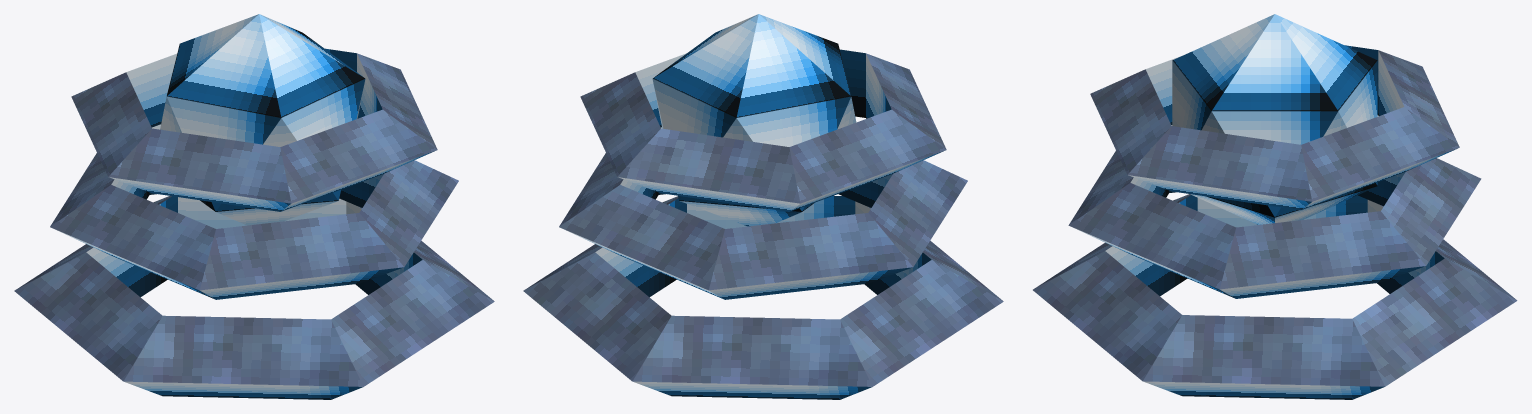
The model's file is charger_upgrade.gltf.
The picture shows the model from 3 angles, left to right: view 1: azimuth 30°, elevation 25°; view 2: azimuth 150°, elevation 25°; view 3: azimuth 270°, elevation 25°; orthographic projection.
Parts seen in each view (by area): view 1: Torus, Torus.001, Torus.002, Core; view 2: Torus, Torus.001, Torus.002, Core; view 3: Torus, Torus.001, Torus.002, Core.
Part boxes in pixels (bbox=[...]): Torus: bbox=[14, 196, 494, 399]; Torus.001: bbox=[50, 124, 458, 299]; Torus.002: bbox=[71, 48, 437, 211]; Core: bbox=[160, 14, 365, 225]; Torus: bbox=[523, 195, 1003, 399]; Torus.001: bbox=[559, 127, 967, 299]; Torus.002: bbox=[580, 49, 946, 211]; Core: bbox=[652, 14, 856, 226]; Torus: bbox=[1033, 194, 1517, 399]; Torus.001: bbox=[1068, 125, 1481, 298]; Torus.002: bbox=[1090, 45, 1459, 210]; Core: bbox=[1172, 14, 1377, 224].
Size of the model in its own units: 0.6848 by 0.566 by 0.7675.
Materials: 2 (2 with a texture image).
